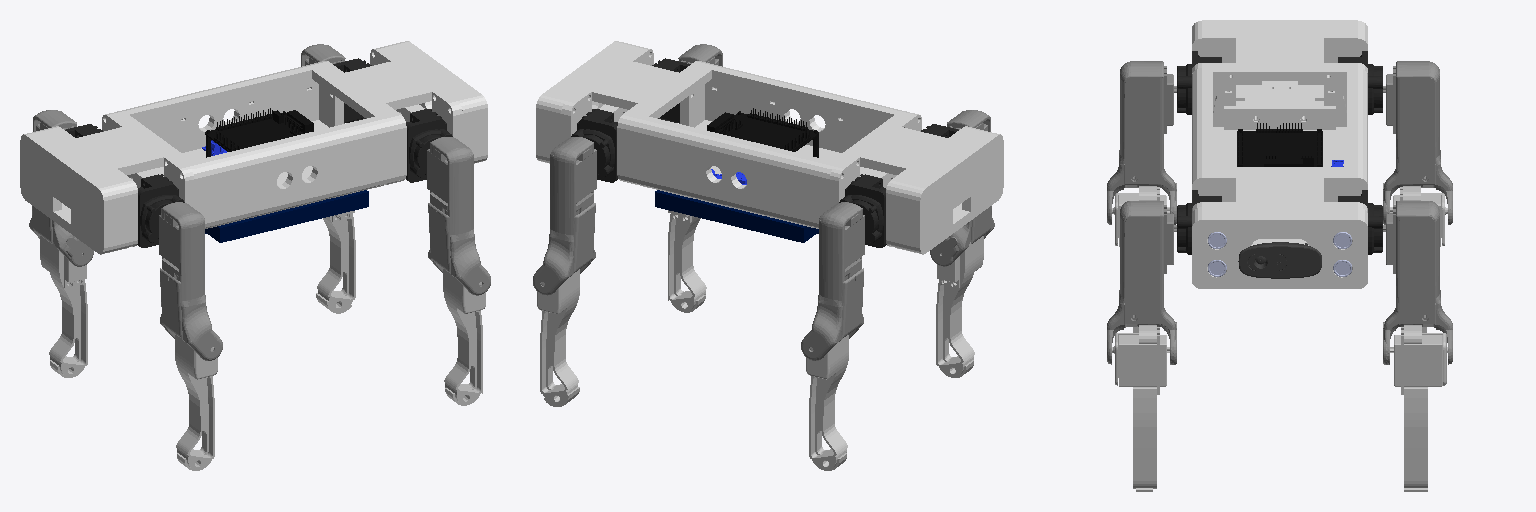
--- Render facts (derived) ---
3 views of the same robot in one strip: view 1: azimuth 30°, elevation 25°; view 2: azimuth 150°, elevation 25°; view 3: azimuth 270°, elevation 25° (orthographic).
Model robot with 21 links and 20 joints (12 revolute, 8 fixed), rooted at base_link, posed all joints at 0.
Visible links, largest first — view 1: base_link, front_right_up_leg, back_right_up_leg, back_left_down_leg, back_right_down_leg, front_right_down_leg, front_left_down_leg, bat, mcu, back_left_up_leg, back_right_hip, front_right_hip (+2 smaller); view 2: base_link, front_left_up_leg, back_left_up_leg, back_right_down_leg, front_left_down_leg, back_left_down_leg, front_right_down_leg, bat, mcu, back_right_up_leg, back_left_hip, front_left_hip (+2 smaller); view 3: base_link, front_right_up_leg, front_left_up_leg, back_left_up_leg, back_right_up_leg, front_left_down_leg, front_right_down_leg, mcu, camera, front_left_hip, front_right_hip, back_left_hip (+5 smaller).
Boxes of the visible links, left/top/right/bottom form: base_link: left=20, top=41, right=487, bottom=254; front_right_up_leg: left=427, top=137, right=490, bottom=295; back_right_up_leg: left=159, top=202, right=222, bottom=360; back_left_down_leg: left=40, top=236, right=87, bottom=377; back_right_down_leg: left=175, top=335, right=217, bottom=470; front_right_down_leg: left=443, top=269, right=485, bottom=405; front_left_down_leg: left=316, top=211, right=355, bottom=313; bat: left=205, top=190, right=368, bottom=242; mcu: left=205, top=108, right=313, bottom=157; back_left_up_leg: left=29, top=110, right=93, bottom=266; back_right_hip: left=137, top=174, right=184, bottom=247; front_right_hip: left=406, top=109, right=452, bottom=182; base_link: left=536, top=41, right=1003, bottom=254; front_left_up_leg: left=533, top=137, right=596, bottom=295; back_left_up_leg: left=801, top=202, right=864, bottom=360; back_right_down_leg: left=936, top=236, right=983, bottom=377; front_left_down_leg: left=537, top=269, right=579, bottom=406; back_left_down_leg: left=806, top=335, right=848, bottom=470; front_right_down_leg: left=668, top=210, right=706, bottom=312; bat: left=655, top=190, right=818, bottom=242; mcu: left=707, top=108, right=818, bottom=157; back_right_up_leg: left=930, top=110, right=994, bottom=266; back_left_hip: left=839, top=174, right=886, bottom=247; front_left_hip: left=571, top=109, right=617, bottom=182; base_link: left=1192, top=20, right=1367, bottom=288; front_right_up_leg: left=1107, top=201, right=1176, bottom=364; front_left_up_leg: left=1383, top=201, right=1452, bottom=364; back_left_up_leg: left=1383, top=61, right=1452, bottom=224; back_right_up_leg: left=1107, top=61, right=1176, bottom=224; front_left_down_leg: left=1390, top=325, right=1447, bottom=491; front_right_down_leg: left=1112, top=325, right=1169, bottom=491; mcu: left=1237, top=123, right=1322, bottom=166; camera: left=1238, top=242, right=1321, bottom=278; front_left_hip: left=1338, top=190, right=1382, bottom=254; front_right_hip: left=1177, top=190, right=1221, bottom=254; back_left_hip: left=1338, top=51, right=1382, bottom=114.
Bounding box of the posed robot: 0.4168 × 0.294 × 0.2751 m (x, y, z).
Meshes: 21 distinct files referenced, 19 mesh visuals loaded (19 binary STL); not drawn: 2 (reference not matched to a file when rendering).

URDF robot description (robot):
<?xml version="1.0" encoding="utf-8"?>
<!-- This URDF was automatically created by SolidWorks to URDF Exporter! Originally created by Stephen Brawner ([email redacted]) 
     Commit Version: 1.6.0-1-g15f4949  Build Version: 1.6.7594.29634
     For more information, please see http://wiki.ros.org/sw_urdf_exporter -->
<robot
  name="">
  <link
    name="base_link">
    <inertial>
      <origin
        xyz="-2.94569196078176E-05 -3.10940475542129E-06 6.73862554313176E-05"
        rpy="0 0 0" />
      <mass
        value="0.83802" />
      <inertia
        ixx="0.00298196475482295"
        ixy="2.02371463401472E-08"
        ixz="-5.51629935704672E-05"
        iyy="0.00546851882943497"
        iyz="1.4380872450524E-08"
        izz="0.008140876996753" />
    </inertial>
    <visual>
      <origin
        xyz="0 0 0"
        rpy="0 0 0" />
      <geometry>
        <mesh
          filename="../Parts/base_link.STL" />
      </geometry>
      <material
        name="light_grey">
        <color
          rgba="0.9 0.9 0.9 1" />
      </material>
    </visual>
    <collision>
      <origin
        xyz="0 0 0"
        rpy="0 0 0" />
      <geometry>
        <mesh
          filename="../Parts/base_link.STL" />
      </geometry>
    </collision>
  </link>
  <link
    name="jetson">
    <inertial>
      <origin
        xyz="0.000137608891496221 0.000561547209728749 0.00285915771597062"
        rpy="0 0 0" />
      <mass
        value="0.2192" />
      <inertia
        ixx="3.47872013887729E-05"
        ixy="-4.17333287250443E-08"
        ixz="4.4289773664267E-08"
        iyy="1.21851888640573E-05"
        iyz="1.70963570877999E-08"
        izz="4.49402840854233E-05" />
    </inertial>
    <visual>
      <origin
        xyz="0 0 0"
        rpy="0 0 0" />
      <geometry>
        <mesh
          filename="../Parts/jetson.STL" />
      </geometry>
      <material
        name="green">
        <color
          rgba="0.4 0.8 0.01 1" />
      </material>
    </visual>
    <collision>
      <origin
        xyz="0 0 0"
        rpy="0 0 0" />
      <geometry>
        <mesh
          filename="../Parts/jetson.STL" />
      </geometry>
    </collision>
  </link>
  <joint
    name="base_jetson"
    type="fixed">
    <origin
      xyz="-0.06945 0.00131 0.02123"
      rpy="0 0 0" />
    <parent
      link="base_link" />
    <child
      link="jetson" />
    <axis
      xyz="0 0 0" />
  </joint>
  <link
    name="mcu">
    <inertial>
      <origin
        xyz="0.00051378 0.00015168 0.0025873"
        rpy="0 0 0" />
      <mass
        value="0.0514" />
      <inertia
        ixx="6.5721E-06"
        ixy="-3.3312E-07"
        ixz="-2.1562E-07"
        iyy="9.2199E-06"
        iyz="-4.7218E-08"
        izz="1.5389E-05" />
    </inertial>
    <visual>
      <origin
        xyz="0 0 0"
        rpy="0 0 0" />
      <geometry>
        <mesh
          filename="../Parts/mcu.STL" />
      </geometry>
      <material
        name="black">
        <color
          rgba="0.1 0.1 0.1 1" />
      </material>
    </visual>
    <collision>
      <origin
        xyz="0 0 0"
        rpy="0 0 0" />
      <geometry>
        <mesh
          filename="../Parts/mcu.STL" />
      </geometry>
    </collision>
  </link>
  <joint
    name="base_mcu"
    type="fixed">
    <origin
      xyz="0.01363 0.000599999999999989 0.00877999999999995"
      rpy="0 0 0" />
    <parent
      link="base_link" />
    <child
      link="mcu" />
    <axis
      xyz="0 0 0" />
  </joint>
  <link
    name="DC_conv_1">
    <inertial>
      <origin
        xyz="0.000670364608051921 -2.55568593113958E-06 0.00406176040460596"
        rpy="0 0 0" />
      <mass
        value="0.0238" />
      <inertia
        ixx="3.50269405411989E-07"
        ixy="-1.36827641831623E-10"
        ixz="9.21474560580672E-10"
        iyy="7.90837129451917E-07"
        iyz="1.01038593492602E-10"
        izz="1.06490178388781E-06" />
    </inertial>
    <visual>
      <origin
        xyz="0 0 0"
        rpy="0 0 0" />
      <geometry>
        <mesh
          filename="../Parts/DC_conv_1.STL" />
      </geometry>
      <material
        name="blue">
        <color
          rgba="0.2 0.3 1 1" />
      </material>
    </visual>
    <collision>
      <origin
        xyz="0 0 0"
        rpy="0 0 0" />
      <geometry>
        <mesh
          filename="../Parts/DC_conv_1.STL" />
      </geometry>
    </collision>
  </link>
  <joint
    name="base_DC_1"
    type="fixed">
    <origin
      xyz="0.0121341052042018 -0.0485040375014079 -0.0188053898665228"
      rpy="0 0 0" />
    <parent
      link="base_link" />
    <child
      link="DC_conv_1" />
    <axis
      xyz="0 0 0" />
  </joint>
  <link
    name="DC_conv_2">
    <inertial>
      <origin
        xyz="0.00067036 -2.5557E-06 0.0040618"
        rpy="0 0 0" />
      <mass
        value="0.0238" />
      <inertia
        ixx="3.5027E-07"
        ixy="-1.3683E-10"
        ixz="9.2147E-10"
        iyy="7.9084E-07"
        iyz="1.0104E-10"
        izz="1.0649E-06" />
    </inertial>
    <visual>
      <origin
        xyz="0 0 0"
        rpy="0 0 0" />
      <geometry>
        <mesh
          filename="../Parts/DC_conv_2.STL" />
      </geometry>
      <material
        name="blue">
        <color
          rgba="0.2 0.3 1 1" />
      </material>
    </visual>
    <collision>
      <origin
        xyz="0 0 0"
        rpy="0 0 0" />
      <geometry>
        <mesh
          filename="../Parts/DC_conv_2.STL" />
      </geometry>
    </collision>
  </link>
  <joint
    name="base_DC_2"
    type="fixed">
    <origin
      xyz="0.0121341052042018 0.048495962498592 -0.0188053898665228"
      rpy="0 0 0" />
    <parent
      link="base_link" />
    <child
      link="DC_conv_2" />
    <axis
      xyz="0 0 0" />
  </joint>
  <link
    name="ultra_sonic_1">
    <inertial>
      <origin
        xyz="0.00558307557235826 1.28177494792547E-05 -0.000228092989212475"
        rpy="0 0 0" />
      <mass
        value="0.00694288669267032" />
      <inertia
        ixx="5.11965056965854E-07"
        ixy="9.16570373423732E-11"
        ixz="2.1967103165378E-12"
        iyy="4.28857986674802E-07"
        iyz="-2.20850458248682E-09"
        izz="1.98180461179871E-07" />
    </inertial>
    <visual>
      <origin
        xyz="0 0 0"
        rpy="0 0 0" />
      <geometry>
        <mesh
          filename="../Parts/ultra_sonic_1.STL" />
      </geometry>
      <material
        name="light_grey">
        <color
          rgba="0.792156862745098 0.819607843137255 0.933333333333333 1" />
      </material>
    </visual>
    <collision>
      <origin
        xyz="0 0 0"
        rpy="0 0 0" />
      <geometry>
        <mesh
          filename="../Parts/ultra_sonic_1.STL" />
      </geometry>
    </collision>
  </link>
  <joint
    name="base_us_1"
    type="fixed">
    <origin
      xyz="0.18716187777521 -0.0532040375014079 0.00515717013347716"
      rpy="0 0 0" />
    <parent
      link="base_link" />
    <child
      link="ultra_sonic_1" />
    <axis
      xyz="0 0 0" />
  </joint>
  <link
    name="ultra_sonic_2">
    <inertial>
      <origin
        xyz="0.0055831 -1.2818E-05 0.00022809"
        rpy="0 0 0" />
      <mass
        value="0.0069429" />
      <inertia
        ixx="5.1197E-07"
        ixy="-9.1657E-11"
        ixz="-2.1967E-12"
        iyy="4.2886E-07"
        iyz="-2.2085E-09"
        izz="1.9818E-07" />
    </inertial>
    <visual>
      <origin
        xyz="0 0 0"
        rpy="0 0 0" />
      <geometry>
        <mesh
          filename="../Parts/ultra_sonic_2.STL" />
      </geometry>
      <material
        name="light_grey">
        <color
          rgba="0.79216 0.81961 0.93333 1" />
      </material>
    </visual>
    <collision>
      <origin
        xyz="0 0 0"
        rpy="0 0 0" />
      <geometry>
        <mesh
          filename="../Parts/ultra_sonic_2.STL" />
      </geometry>
    </collision>
  </link>
  <joint
    name="base_us_2"
    type="fixed">
    <origin
      xyz="0.18716187777521 0.0531959624985921 0.00423205013347716"
      rpy="0 0 0" />
    <parent
      link="base_link" />
    <child
      link="ultra_sonic_2" />
    <axis
      xyz="0 0 0" />
  </joint>
  <link
    name="camera">
    <inertial>
      <origin
        xyz="-2.32797888843894E-06 3.79642191226416E-06 1.76688735195607E-06"
        rpy="0 0 0" />
      <mass
        value="0.1" />
      <inertia
        ixx="1.00015128600799E-05"
        ixy="-3.38964337578506E-08"
        ixz="1.59588137361042E-08"
        iyy="2.20492049973851E-06"
        iyz="-3.89124551449252E-09"
        izz="9.11771039364902E-06" />
    </inertial>
    <visual>
      <origin
        xyz="0 0 0"
        rpy="0 0 0" />
      <geometry>
        <mesh
          filename="../Parts/camera.STL" />
      </geometry>
      <material
        name="camera">
        <color
          rgba="0.294117647058824 0.294117647058824 0.294117647058824 1" />
      </material>
    </visual>
    <collision>
      <origin
        xyz="0 0 0"
        rpy="0 0 0" />
      <geometry>
        <mesh
          filename="../Parts/camera.STL" />
      </geometry>
    </collision>
  </link>
  <joint
    name="base_camera"
    type="fixed">
    <origin
      xyz="0.20975 0.000570000000000001 0.00548999999999997"
      rpy="0 0 0" />
    <parent
      link="base_link" />
    <child
      link="camera" />
    <axis
      xyz="0 0 0" />
  </joint>
  <link
    name="front_left_hip">
    <inertial>
      <origin
        xyz="0.0288208993064377 0.00598886915303719 -0.00995005834842239"
        rpy="0 0 0" />
      <mass
        value="0.105" />
      <inertia
        ixx="1.59747547470133E-05"
        ixy="-3.09010191301587E-07"
        ixz="-1.36568497564877E-07"
        iyy="2.11284090419884E-05"
        iyz="1.8250481328111E-08"
        izz="1.23589814930974E-05" />
    </inertial>
    <visual>
      <origin
        xyz="0 0 0"
        rpy="0 0 0" />
      <geometry>
        <mesh
          filename="../Parts/front_left_hip.STL" />
      </geometry>
      <material
        name="light_black">
        <color
          rgba="0.2 0.2 0.2 1" />
      </material>
    </visual>
    <collision>
      <origin
        xyz="0 0 0"
        rpy="0 0 0" />
      <geometry>
        <mesh
          filename="../Parts/front_left_hip.STL" />
      </geometry>
    </collision>
  </link>
  <joint
    name="front_left_shoulder"
    type="revolute">
    <origin
      xyz="0.110683084338582 0.0594959624985922 0.00999460588017018"
      rpy="0 0 0" />
    <parent
      link="base_link" />
    <child
      link="front_left_hip" />
    <axis
      xyz="-1 0 0" />
    <limit effort="1000" lower="-0.548" upper="0.548" velocity="0.7"/>
    <dynamics damping="0.0" friction="0.5"/>
  </joint>
  <link
    name="front_left_up_leg">
    <inertial>
      <origin
        xyz="0.0019623 0.031284 -0.039344"
        rpy="0 0 0" />
      <mass
        value="0.145" />
      <inertia
        ixx="0.00012009"
        ixy="-7.5582E-07"
        ixz="-1.6461E-06"
        iyy="0.00011144"
        iyz="-8.5531E-08"
        izz="2.2367E-05" />
    </inertial>
    <visual>
      <origin
        xyz="0 0 0"
        rpy="0 0 0" />
      <geometry>
        <mesh
          filename="../Parts/front_left_up_leg.STL" />
      </geometry>
      <material
        name="grey">
        <color
          rgba="0.6 0.6 0.6 1" />
      </material>
    </visual>
    <collision>
      <origin
        xyz="0 0 0"
        rpy="0 0 0" />
      <geometry>
        <mesh
          filename="../Parts/front_left_up_leg.STL" />
      </geometry>
    </collision>
  </link>
  <joint
    name="front_left_leg"
    type="revolute">
    <origin
      xyz="0.0277514041712069 0.02443 -0.0101447701586943"
      rpy="0 0 0" />
    <parent
      link="front_left_hip" />
    <child
      link="front_left_up_leg" />
    <axis
      xyz="0 -1 0" />
    <limit effort="1000" lower="-2.666" upper="1.548" velocity="0.5"/>
    <dynamics damping="0.0" friction="0.0"/>
  </joint>
  <link
    name="front_left_down_leg">
    <inertial>
      <origin
        xyz="-0.000768942712784382 -0.0284168563000375 -0.0307884345476764"
        rpy="0 0 0" />
      <mass
        value="0.110" />
      <inertia
        ixx="8.35507415893145E-05"
        ixy="4.73582093757714E-07"
        ixz="4.78895904672142E-06"
        iyy="7.98081735114618E-05"
        iyz="-4.26175915909378E-06"
        izz="1.11677892138952E-05" />
    </inertial>
    <visual>
      <origin
        xyz="0 0 0"
        rpy="0 0 0" />
      <geometry>
        <mesh
          filename="../Parts/front_left_down_leg.STL" />
      </geometry>
      <material
        name="down">
        <color
          rgba="0.8 0.8 0.8 1" />
      </material>
    </visual>
    <collision>
      <origin
        xyz="0 0 0"
        rpy="0 0 0" />
      <geometry>
        <mesh
          filename="../Parts/front_left_down_leg.STL" />
      </geometry>
    </collision>
  </link>
  <joint
    name="front_left_foot"
    type="revolute">
    <origin
      xyz="0.013898 0.06235 -0.10691"
      rpy="0 0 0" />
    <parent
      link="front_left_up_leg" />
    <child
      link="front_left_down_leg" />
    <axis
      xyz="0 -1 0" />
    <limit effort="1000" lower="-0.1" upper="2.59" velocity="0.5"/>
    <dynamics damping="0.0" friction="0.5"/>
  </joint>
  <link
    name="front_right_hip">
    <inertial>
      <origin
        xyz="0.028821 -0.0059889 -0.0099501"
        rpy="0 0 0" />
      <mass
        value="0.105" />
      <inertia
        ixx="1.5975E-05"
        ixy="3.0901E-07"
        ixz="-1.3658E-07"
        iyy="2.1128E-05"
        iyz="-1.8249E-08"
        izz="1.2359E-05" />
    </inertial>
    <visual>
      <origin
        xyz="0 0 0"
        rpy="0 0 0" />
      <geometry>
        <mesh
          filename="../Parts/front_right_hip.STL" />
      </geometry>
      <material
        name="light_black">
        <color
          rgba="0.2 0.2 0.2 1" />
      </material>
    </visual>
    <collision>
      <origin
        xyz="0 0 0"
        rpy="0 0 0" />
      <geometry>
        <mesh
          filename="../Parts/front_right_hip.STL" />
      </geometry>
    </collision>
  </link>
  <joint
    name="front_right_shoulder"
    type="revolute">
    <origin
      xyz="0.110683084338582 -0.0595040375014077 0.00999460588017051"
      rpy="0 0 0" />
    <parent
      link="base_link" />
    <child
      link="front_right_hip" />
    <axis
      xyz="-1 0 0" />
     <limit effort="1000" lower="-0.548" upper="0.548" velocity="0.7"/>
    <dynamics damping="0.0" friction="0.5"/>
  </joint>
  <link
    name="front_right_up_leg">
    <inertial>
      <origin
        xyz="0.00196029884019333 -0.0312778540961644 -0.0393120807459291"
        rpy="0 0 0" />
      <mass
        value="0.145" />
      <inertia
        ixx="0.000120373950910233"
        ixy="7.57910657767681E-07"
        ixz="-1.6411252863915E-06"
        iyy="0.000111690052705349"
        iyz="-1.70804267365478E-08"
        izz="2.24132001480345E-05" />
    </inertial>
    <visual>
      <origin
        xyz="0 0 0"
        rpy="0 0 0" />
      <geometry>
        <mesh
          filename="../Parts/front_right_up_leg.STL" />
      </geometry>
      <material
        name="grey">
        <color
          rgba="0.6 0.6 0.6 1" />
      </material>
    </visual>
    <collision>
      <origin
        xyz="0 0 0"
        rpy="0 0 0" />
      <geometry>
        <mesh
          filename="../Parts/front_right_up_leg.STL" />
      </geometry>
    </collision>
  </link>
  <joint
    name="front_right_leg"
    type="revolute">
    <origin
      xyz="0.0277514041712071 -0.02443 -0.010144770158694"
      rpy="0 0 0" />
    <parent
      link="front_right_hip" />
    <child
      link="front_right_up_leg" />
    <axis
      xyz="0 -1 0" />
   <limit effort="1000" lower="-2.666" upper="1.548" velocity="0.5"/>
    <dynamics damping="0.0" friction="0.0"/>
  </joint>
  <link
    name="front_right_down_leg">
    <inertial>
      <origin
        xyz="-0.000769227887700841 0.0284066220277467 -0.030799859311644"
        rpy="0 0 0" />
      <mass
        value="0.110" />
      <inertia
        ixx="8.35497714113655E-05"
        ixy="-4.73581738844522E-07"
        ixz="4.78895913195973E-06"
        iyy="7.98080807304769E-05"
        iyz="4.26175732093425E-06"
        izz="1.11668204485665E-05" />
    </inertial>
    <visual>
      <origin
        xyz="0 0 0"
        rpy="0 0 0" />
      <geometry>
        <mesh
          filename="../Parts/front_right_down_leg.STL" />
      </geometry>
      <material
        name="down">
        <color
          rgba="0.8 0.8 0.8 1" />
      </material>
    </visual>
    <collision>
      <origin
        xyz="0 0 0"
        rpy="0 0 0" />
      <geometry>
        <mesh
          filename="../Parts/front_right_down_leg.STL" />
      </geometry>
    </collision>
  </link>
  <joint
    name="front_right_foot"
    type="revolute">
    <origin
      xyz="0.0138982314148388 -0.0613500007629393 -0.106910485643837"
      rpy="0 0 0" />
    <parent
      link="front_right_up_leg" />
    <child
      link="front_right_down_leg" />
    <axis
      xyz="0 -1 0" />
    <limit effort="1000" lower="-0.1" upper="2.59" velocity="0.5"/>
    <dynamics damping="0.0" friction="0.5"/>
  </joint>
  <link
    name="back_left_hip">
    <inertial>
      <origin
        xyz="0.028811 0.0060975 -0.0099519"
        rpy="0 0 0" />
      <mass
        value="0.105" />
      <inertia
        ixx="1.6051E-05"
        ixy="-3.1268E-07"
        ixz="-1.3652E-07"
        iyy="2.1235E-05"
        iyz="1.8443E-08"
        izz="1.2437E-05" />
    </inertial>
    <visual>
      <origin
        xyz="0 0 0"
        rpy="0 0 0" />
      <geometry>
        <mesh
          filename="../Parts/back_left_hip.STL" />
      </geometry>
      <material
        name="light_black">
        <color
          rgba="0.2 0.2 0.2 1" />
      </material>
    </visual>
    <collision>
      <origin
        xyz="0 0 0"
        rpy="0 0 0" />
      <geometry>
        <mesh
          filename="../Parts/back_left_hip.STL" />
      </geometry>
    </collision>
  </link>
  <joint
    name="rear_left_shoulder"
    type="revolute">
    <origin
      xyz="-0.168816915661418 0.0594959624985921 0.00999460588017015"
      rpy="0 0 0" />
    <parent
      link="base_link" />
    <child
      link="back_left_hip" />
    <axis
      xyz="-1 0 0" />
    <limit effort="1000" lower="-0.548" upper="0.548" velocity="0.7"/>
    <dynamics damping="0.0" friction="0.5"/>
  </joint>
  <link
    name="back_left_up_leg">
    <inertial>
      <origin
        xyz="0.00196027327059189 0.0312778747797474 -0.0393121435264935"
        rpy="0 0 0" />
      <mass
        value="0.145" />
      <inertia
        ixx="0.00012037370428913"
        ixy="-7.5789040396446E-07"
        ixz="-1.64115180986E-06"
        iyy="0.000111689855776008"
        iyz="1.68748977285604E-08"
        izz="2.24132438244875E-05" />
    </inertial>
    <visual>
      <origin
        xyz="0 0 0"
        rpy="0 0 0" />
      <geometry>
        <mesh
          filename="../Parts/back_left_up_leg.STL" />
      </geometry>
      <material
        name="grey">
        <color
          rgba="0.6 0.6 0.6 1" />
      </material>
    </visual>
    <collision>
      <origin
        xyz="0 0 0"
        rpy="0 0 0" />
      <geometry>
        <mesh
          filename="../Parts/back_left_up_leg.STL" />
      </geometry>
    </collision>
  </link>
  <joint
    name="rear_left_leg"
    type="revolute">
    <origin
      xyz="0.027751404171207 0.02443 -0.0101447701586938"
      rpy="0 0 0" />
    <parent
      link="back_left_hip" />
    <child
      link="back_left_up_leg" />
    <axis
      xyz="0 -1 0" />
    <limit effort="1000" lower="-2.666" upper="1.548" velocity="0.5"/>
    <dynamics damping="0.0" friction="0.0"/>
  </joint>
  <link
    name="back_left_down_leg">
    <inertial>
      <origin
        xyz="-0.00076923 -0.028407 -0.0308"
        rpy="0 0 0" />
      <mass
        value="0.110" />
      <inertia
        ixx="8.355E-05"
        ixy="4.7358E-07"
        ixz="4.789E-06"
        iyy="7.9808E-05"
        iyz="-4.2618E-06"
        izz="1.1167E-05" />
    </inertial>
    <visual>
      <origin
        xyz="0 0 0"
        rpy="0 0 0" />
      <geometry>
        <mesh
          filename="../Parts/back_left_down_leg.STL" />
      </geometry>
      <material
        name="down">
        <color
          rgba="0.8 0.8 0.8 1" />
      </material>
    </visual>
    <collision>
      <origin
        xyz="0 0 0"
        rpy="0 0 0" />
      <geometry>
        <mesh
          filename="../Parts/back_left_down_leg.STL" />
      </geometry>
    </collision>
  </link>
  <joint
    name="rear_left_foot"
    type="revolute">
    <origin
      xyz="0.0138982314148385 0.0613500007629395 -0.106910485643837"
      rpy="0 0 0" />
    <parent
      link="back_left_up_leg" />
    <child
      link="back_left_down_leg" />
    <axis
      xyz="0 -1 0" />
    <limit effort="1000" lower="-0.1" upper="2.59" velocity="0.5"/>
    <dynamics damping="0.0" friction="0.5"/>
  </joint>
  <link
    name="back_right_hip">
    <inertial>
      <origin
        xyz="0.028821 -0.0059889 -0.0099501"
        rpy="0 0 0" />
      <mass
        value="0.105" />
      <inertia
        ixx="1.5975E-05"
        ixy="3.0901E-07"
        ixz="-1.3658E-07"
        iyy="2.1128E-05"
        iyz="-1.8249E-08"
        izz="1.2359E-05" />
    </inertial>
    <visual>
      <origin
        xyz="0 0 0"
        rpy="0 0 0" />
      <geometry>
        <mesh
          filename="../Parts/back_right_hip.STL" />
      </geometry>
      <material
        name="light_black">
        <color
          rgba="0.2 0.2 0.2 1" />
      </material>
    </visual>
    <collision>
      <origin
        xyz="0 0 0"
        rpy="0 0 0" />
      <geometry>
        <mesh
          filename="../Parts/back_right_hip.STL" />
      </geometry>
    </collision>
  </link>
  <joint
    name="rear_right_shoulder"
    type="revolute">
    <origin
      xyz="-0.16882 -0.059504 0.0099946"
      rpy="0 0 0" />
    <parent
      link="base_link" />
    <child
      link="back_right_hip" />
    <axis
      xyz="-1 0 0" />
    <limit effort="1000" lower="-0.548" upper="0.548" velocity="0.7"/>
    <dynamics damping="0.0" friction="0.5"/>
  </joint>
  <link
    name="back_right_up_leg">
    <inertial>
      <origin
        xyz="0.00196029896848632 -0.0312778540731772 -0.0393120806566281"
        rpy="0 0 0" />
      <mass
        value="0.145" />
      <inertia
        ixx="0.000120373950624688"
        ixy="7.57910527525883E-07"
        ixz="-1.64112532574111E-06"
        iyy="0.0001116900524742"
        iyz="-1.70804638646449E-08"
        izz="2.24131998079527E-05" />
    </inertial>
    <visual>
      <origin
        xyz="0 0 0"
        rpy="0 0 0" />
      <geometry>
        <mesh
          filename="../Parts/back_right_up_leg.STL" />
      </geometry>
      <material
        name="grey">
        <color
          rgba="0.6 0.6 0.6 1" />
      </material>
    </visual>
    <collision>
      <origin
        xyz="0 0 0"
        rpy="0 0 0" />
      <geometry>
        <mesh
          filename="../Parts/back_right_up_leg.STL" />
      </geometry>
    </collision>
  </link>
  <joint
    name="rear_right_leg"
    type="revolute">
    <origin
      xyz="0.0277514041712071 -0.02443 -0.0101447701586939"
      rpy="0 0 0" />
    <parent
      link="back_right_hip" />
    <child
      link="back_right_up_leg" />
    <axis
      xyz="0 -1 0" />
    <limit effort="1000" lower="-2.666" upper="1.548" velocity="0.5"/>
    <dynamics damping="0.0" friction="0.0"/>
  </joint>
  <link
    name="back_right_down_leg">
    <inertial>
      <origin
        xyz="-0.00076923 0.028407 -0.0308"
        rpy="0 0 0" />
      <mass
        value="0.110" />
      <inertia
        ixx="8.355E-05"
        ixy="-4.7358E-07"
        ixz="4.789E-06"
        iyy="7.9808E-05"
        iyz="4.2618E-06"
        izz="1.1167E-05" />
    </inertial>
    <visual>
      <origin
        xyz="0 0 0"
        rpy="0 0 0" />
      <geometry>
        <mesh
          filename="../Parts/back_right_down_leg.STL" />
      </geometry>
      <material
        name="down">
        <color
          rgba="0.8 0.8 0.8 1" />
      </material>
    </visual>
    <collision>
      <origin
        xyz="0 0 0"
        rpy="0 0 0" />
      <geometry>
        <mesh
          filename="../Parts/back_right_down_leg.STL" />
      </geometry>
    </collision>
  </link>
  <joint
    name="rear_right_foot"
    type="revolute">
    <origin
      xyz="0.0138982314148385 -0.0613500007629397 -0.106910485643837"
      rpy="0 0 0" />
    <parent
      link="back_right_up_leg" />
    <child
      link="back_right_down_leg" />
    <axis
      xyz="0 -1 0" />
    <limit effort="1000" lower="-0.1" upper="2.59" velocity="0.5"/>
    <dynamics damping="0.0" friction="0.5"/>
  </joint>
  <link
    name="bat">
    <inertial>
      <origin
        xyz="0.0044148 -8.6736E-18 -0.010522"
        rpy="0 0 0" />
      <mass
        value="0.689" />
      <inertia
        ixx="0.0001001"
        ixy="-1.0172E-20"
        ixz="5.3225E-20"
        iyy="0.00077367"
        iyz="4.1202E-22"
        izz="0.00084007" />
    </inertial>
    <visual>
      <origin
        xyz="0 0 0"
        rpy="0 0 0" />
      <geometry>
        <mesh
          filename="../Parts/bat.STL" />
      </geometry>
      <material
        name="red">
        <color
          rgba="0 0.1 0.3 1" />
      </material>
    </visual>
    <collision>
      <origin
        xyz="0 0 0"
        rpy="0 0 0" />
      <geometry>
        <mesh
          filename="../Parts/bat.STL" />
      </geometry>
    </collision>
  </link>
  <joint
    name="base_bat"
    type="fixed">
    <origin
      xyz="-0.0075669 0 -0.027805"
      rpy="0 0 0" />
    <parent
      link="base_link" />
    <child
      link="bat" />
    <axis
      xyz="0 0 0" />
  </joint>
</robot>
